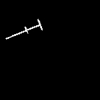double_crochet: (6, 20, 41, 38)
